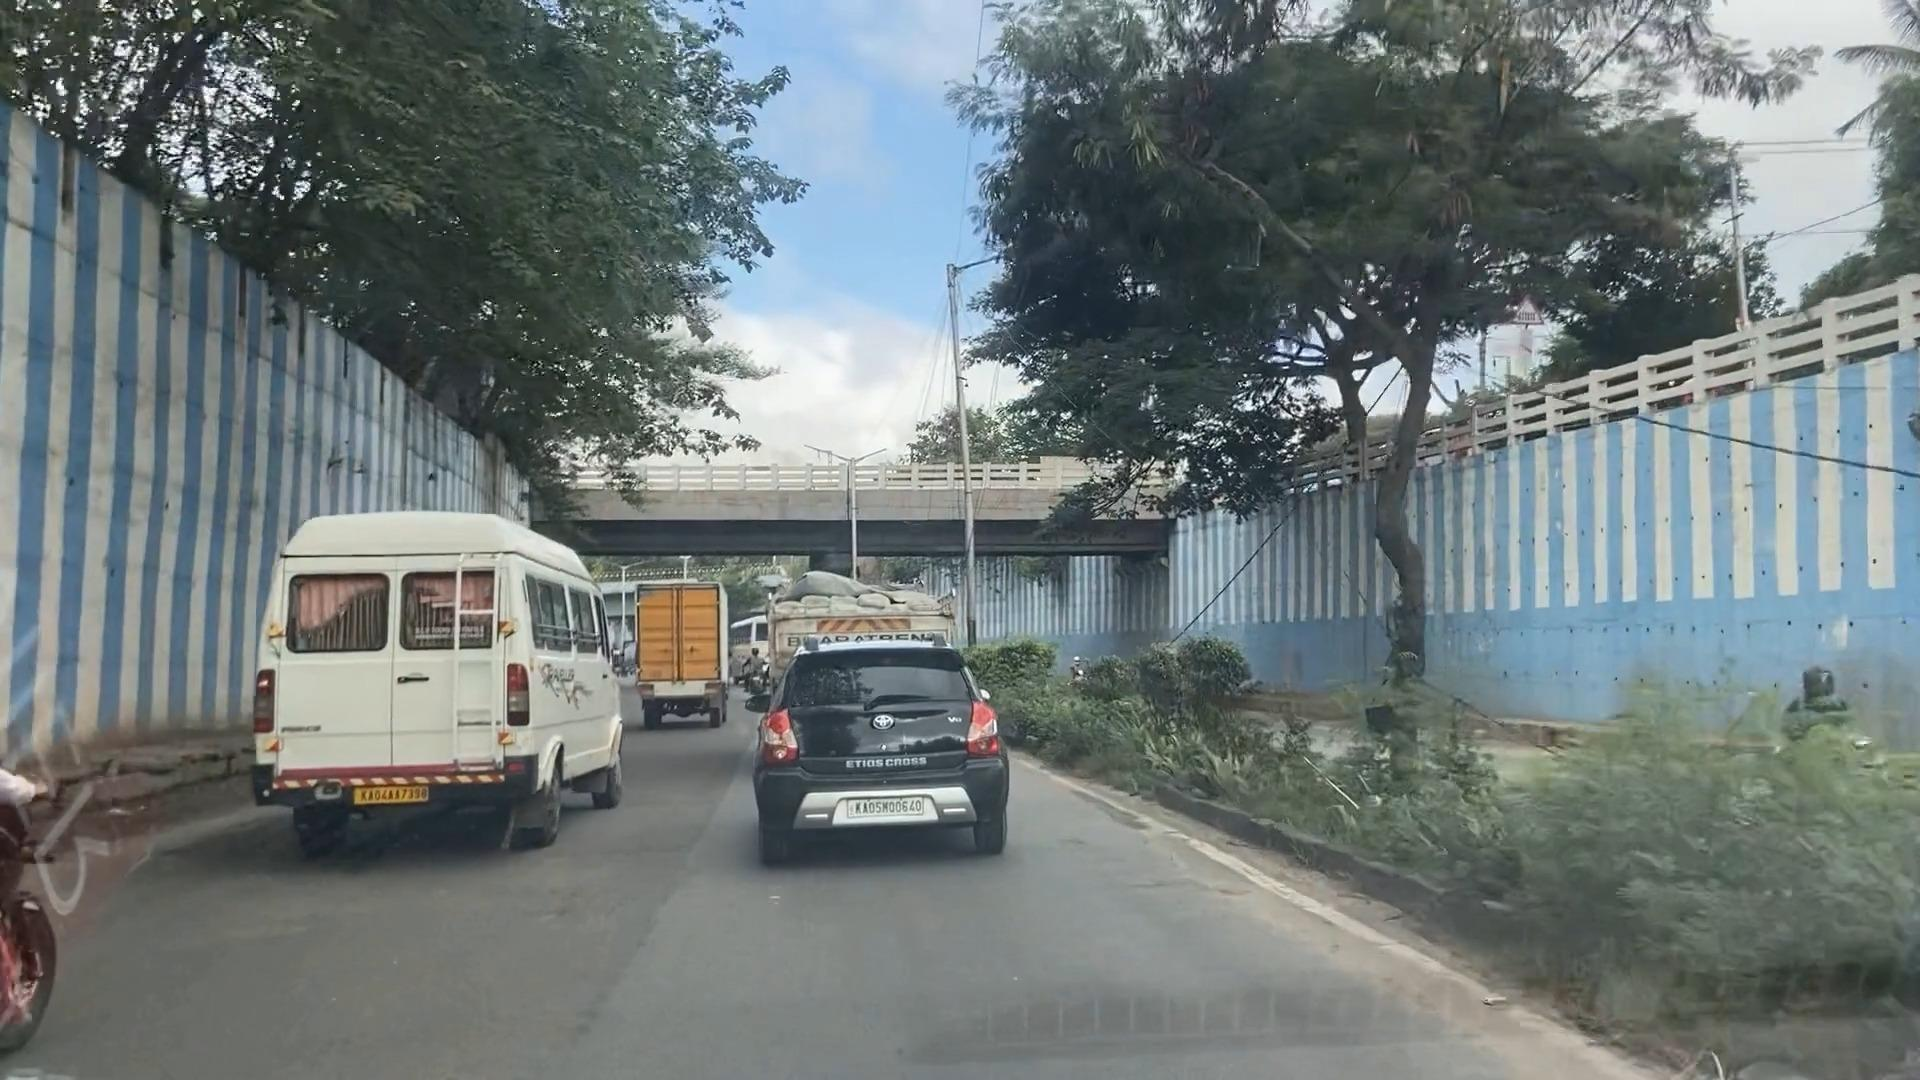HMV: (256, 510, 622, 855), (637, 588, 727, 724)
LMV: (757, 642, 1009, 862)
